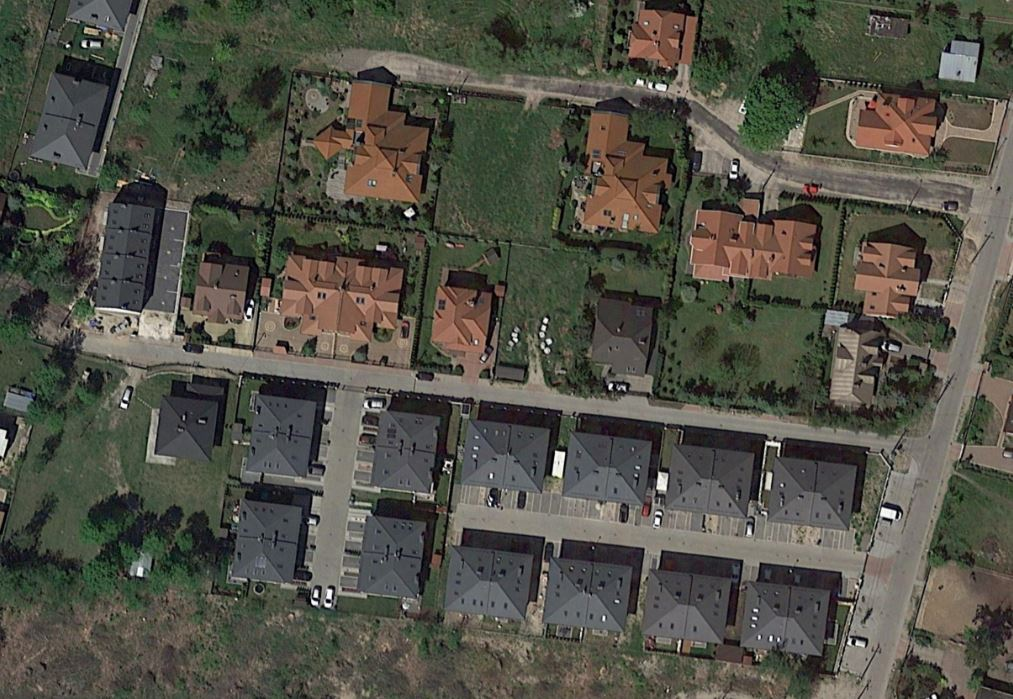block of flats: (89, 194, 158, 321)
family house: (311, 69, 434, 207), (576, 101, 671, 242), (846, 88, 942, 160), (148, 380, 230, 463), (586, 293, 662, 379), (852, 235, 924, 323), (828, 320, 882, 411), (430, 281, 498, 353), (190, 253, 257, 325), (624, 8, 701, 70)
terrace house: (275, 249, 407, 344), (683, 204, 825, 287), (241, 384, 326, 483), (25, 72, 109, 172), (440, 541, 536, 621), (540, 553, 636, 633), (636, 564, 732, 644), (739, 578, 835, 658), (764, 451, 860, 531), (663, 438, 759, 518), (560, 425, 656, 505), (458, 416, 554, 496), (226, 496, 307, 585), (349, 512, 430, 601), (369, 404, 443, 496)
